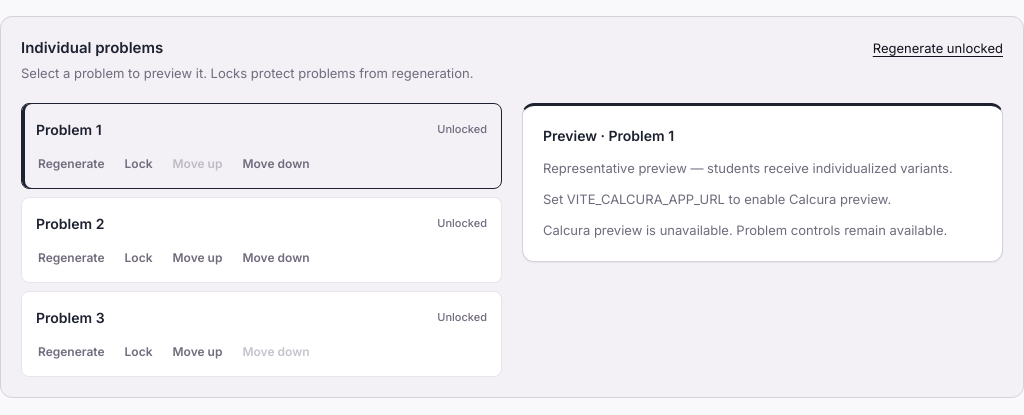
Test: assignment problem slot editor › selects a preview slot and labels individualized output as representative
Expected: the text "Representative preview" is shown, [543, 160, 953, 176]
Click the button with aria-label "Problem 2, unlocked" at (66,223), box [34, 204, 489, 242]
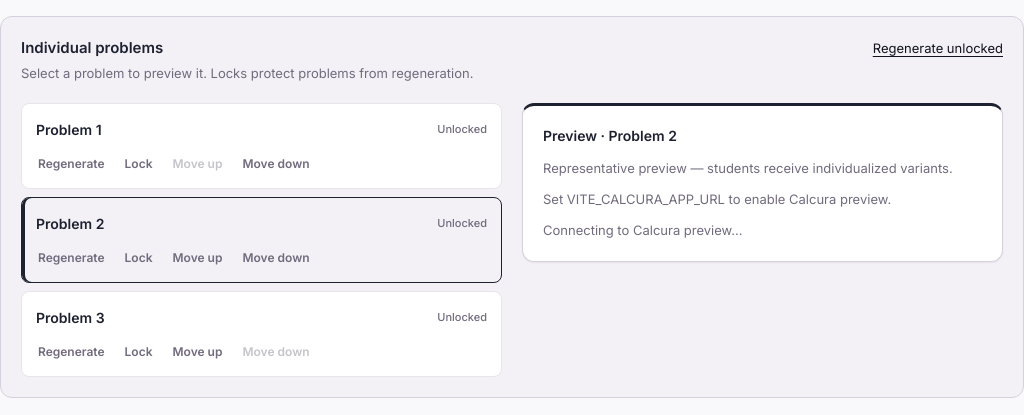
Expected: the text "Set VITE_CALCURA_APP_URL to enable Calcura preview." is shown, [543, 191, 891, 207]
Result: the heading "Preview · Problem 2" is shown at [543, 127, 677, 144]
